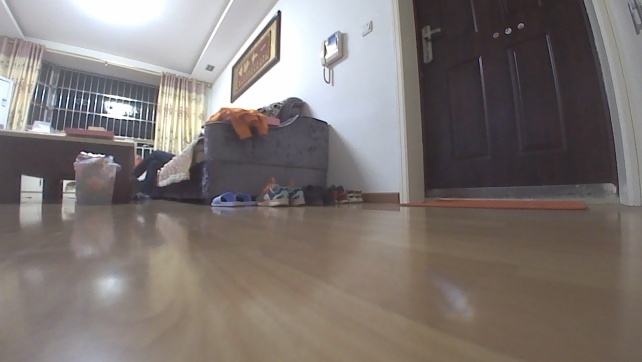blanket: (398, 196, 588, 210)
door_anno: (388, 0, 641, 211)
shoe: (255, 182, 289, 207)
slipper: (209, 191, 245, 208)
sofa1: (150, 95, 330, 205)
